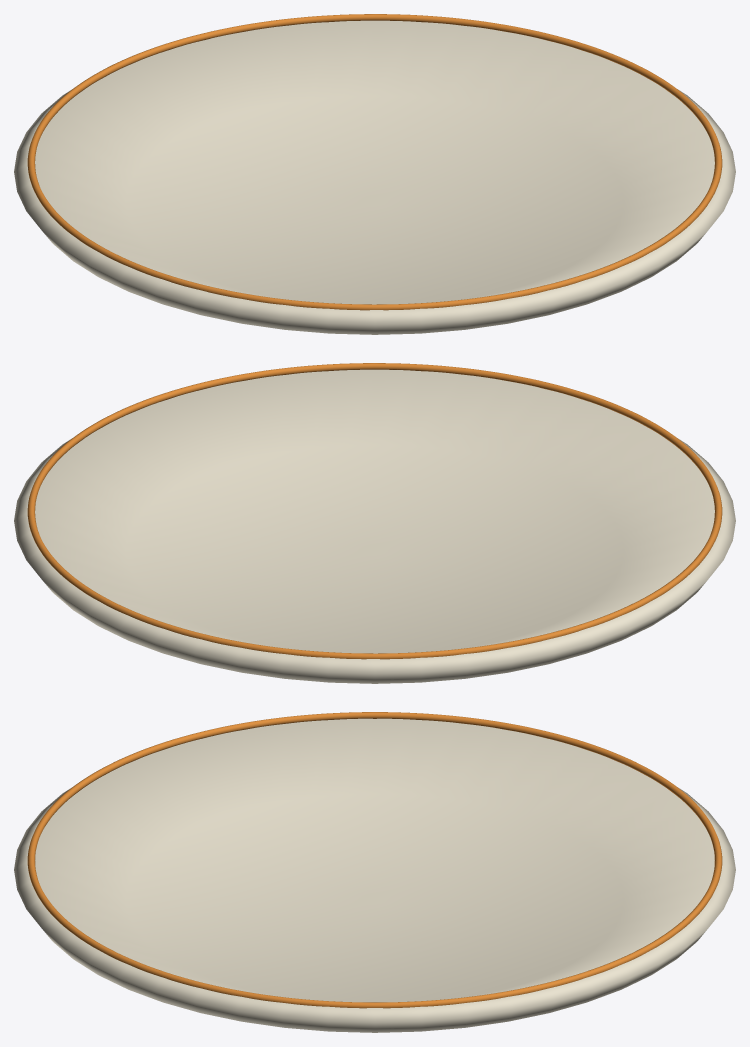
The model's file is dinner-plate.glb.
3 renders of one model, top to bottom at view 1: azimuth 30°, elevation 25°; view 2: azimuth 150°, elevation 25°; view 3: azimuth 270°, elevation 25°, orthographic.
Parts seen in each view (by area): view 1: dinner-plate / 20 / glazed cream ceramic, dinner-plate / 03 • ochre enamel; view 2: dinner-plate / 20 / glazed cream ceramic, dinner-plate / 03 • ochre enamel; view 3: dinner-plate / 20 / glazed cream ceramic, dinner-plate / 03 • ochre enamel.
Boxes of the visible parts, x1,y1,x2,y2 form: dinner-plate / 20 / glazed cream ceramic: (14,20,735,334); dinner-plate / 03 • ochre enamel: (27,14,722,310); dinner-plate / 20 / glazed cream ceramic: (14,369,735,683); dinner-plate / 03 • ochre enamel: (27,363,722,659); dinner-plate / 20 / glazed cream ceramic: (14,718,735,1032); dinner-plate / 03 • ochre enamel: (27,712,722,1008).
Bounding box in the file's own units: 0.29 × 0.0305 × 0.29.
